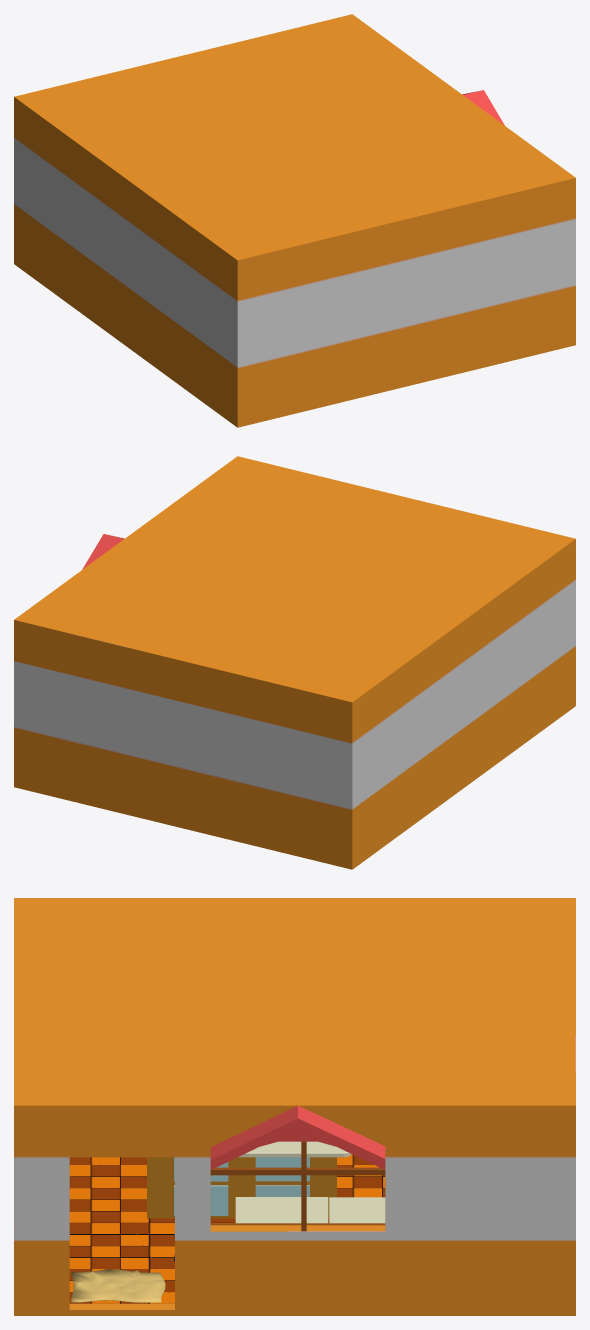
The model's file is newKitchen.fbx.
The picture shows the model from 3 angles, top to bottom: view 1: azimuth 30°, elevation 25°; view 2: azimuth 150°, elevation 25°; view 3: azimuth 270°, elevation 25°; orthographic projection. The views are drawn at different scales.
Visible parts, largest first — view 1: Room; view 2: Room; view 3: Room, 立方体.007, 平面.022, 立方体.002, 立方体.003.
Part boxes in pixels (<box>): Room: <box>14,14,575,427</box>; Room: <box>14,456,575,869</box>; Room: <box>14,898,575,1315</box>; 立方体.007: <box>147,1141,351,1218</box>; 平面.022: <box>71,1269,165,1302</box>; 立方体.002: <box>235,1197,328,1223</box>; 立方体.003: <box>329,1197,385,1223</box>.
Bounding box in the file's own units: 7649 × 3405 × 8246.
